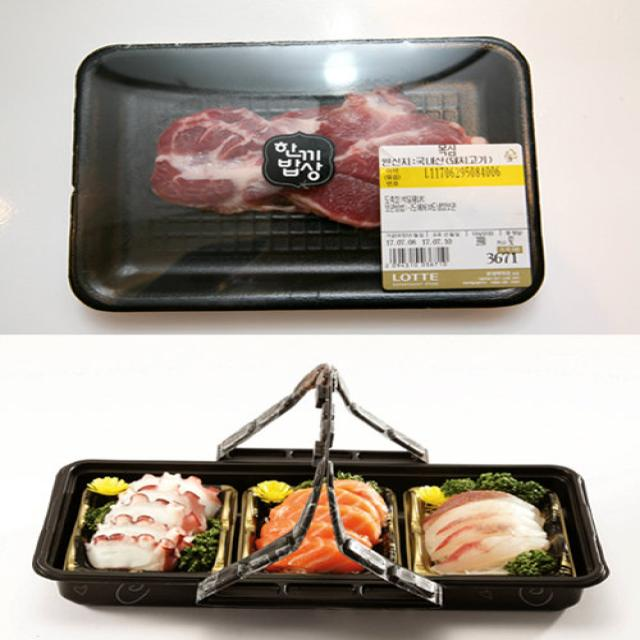pork: (56, 33, 539, 334)
